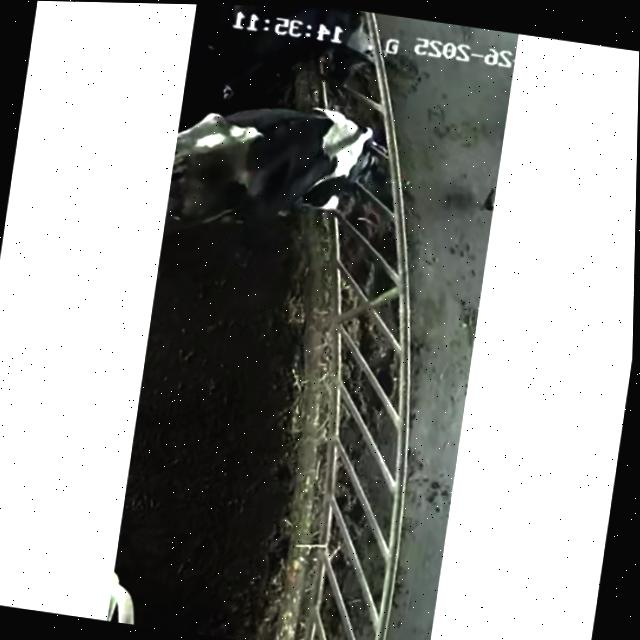eat: (252, 82, 453, 232), (235, 5, 426, 91)
